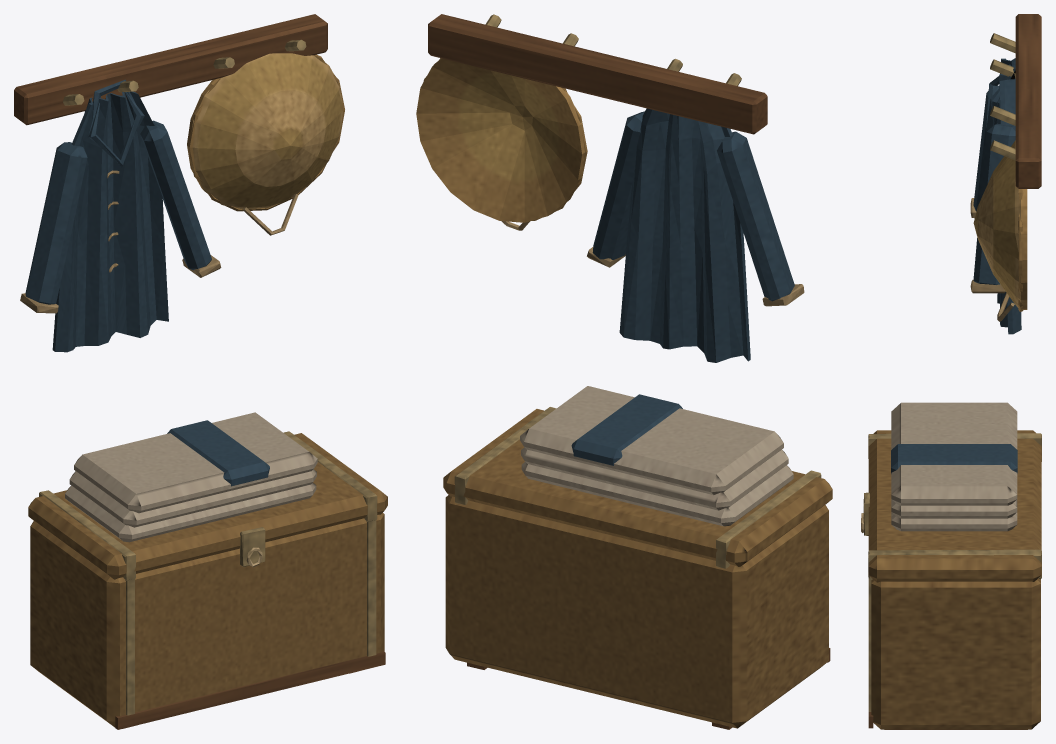
File: WakeClothesChest_LOD1.fbx
3 views of the same model, side by side, from view 1: azimuth 30°, elevation 25°; view 2: azimuth 150°, elevation 25°; view 3: azimuth 270°, elevation 25° (orthographic). The views are drawn at different scales.
Parts seen in each view (by area): view 1: WakeClothesChest.001; view 2: WakeClothesChest.001; view 3: WakeClothesChest.001.
Part boxes in pixels (x1=…): WakeClothesChest.001: x1=14, y1=14, x2=387, y2=729; WakeClothesChest.001: x1=416, y1=14, x2=832, y2=729; WakeClothesChest.001: x1=861, y1=14, x2=1041, y2=729.
Size of the model in its own units: 1.03 by 1.75 by 0.4901.
1 material, 1 textured.
